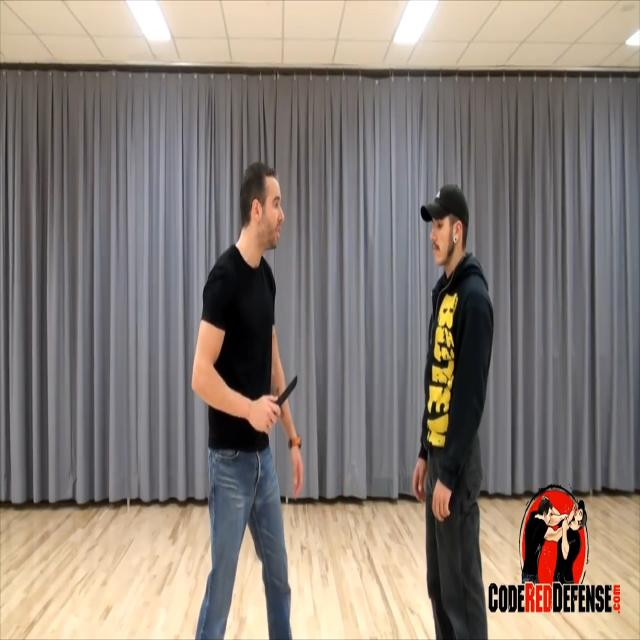knife: (276, 374, 302, 413)
